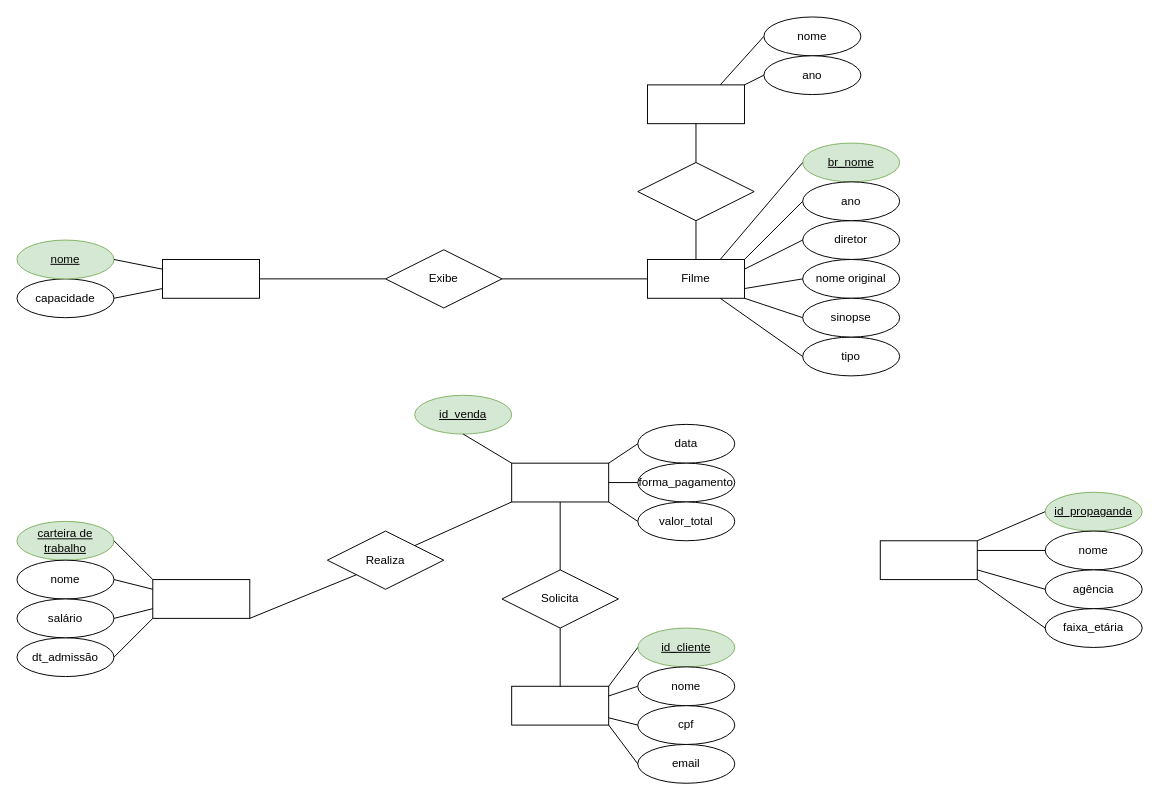
Image size: 1159x800. Some labels were removed from this diagram. Here are the shapes that lost their labels. From the top down, the centre of each, then its label:
At (x=695, y=104): "Premiações".
At (x=695, y=191): "Contém".
At (x=210, y=278): "Sala".
At (x=560, y=482): "Venda".
At (x=928, y=560): "Propagandas".
At (x=201, y=598): "Funcionário".
At (x=560, y=705): "Cliente".
